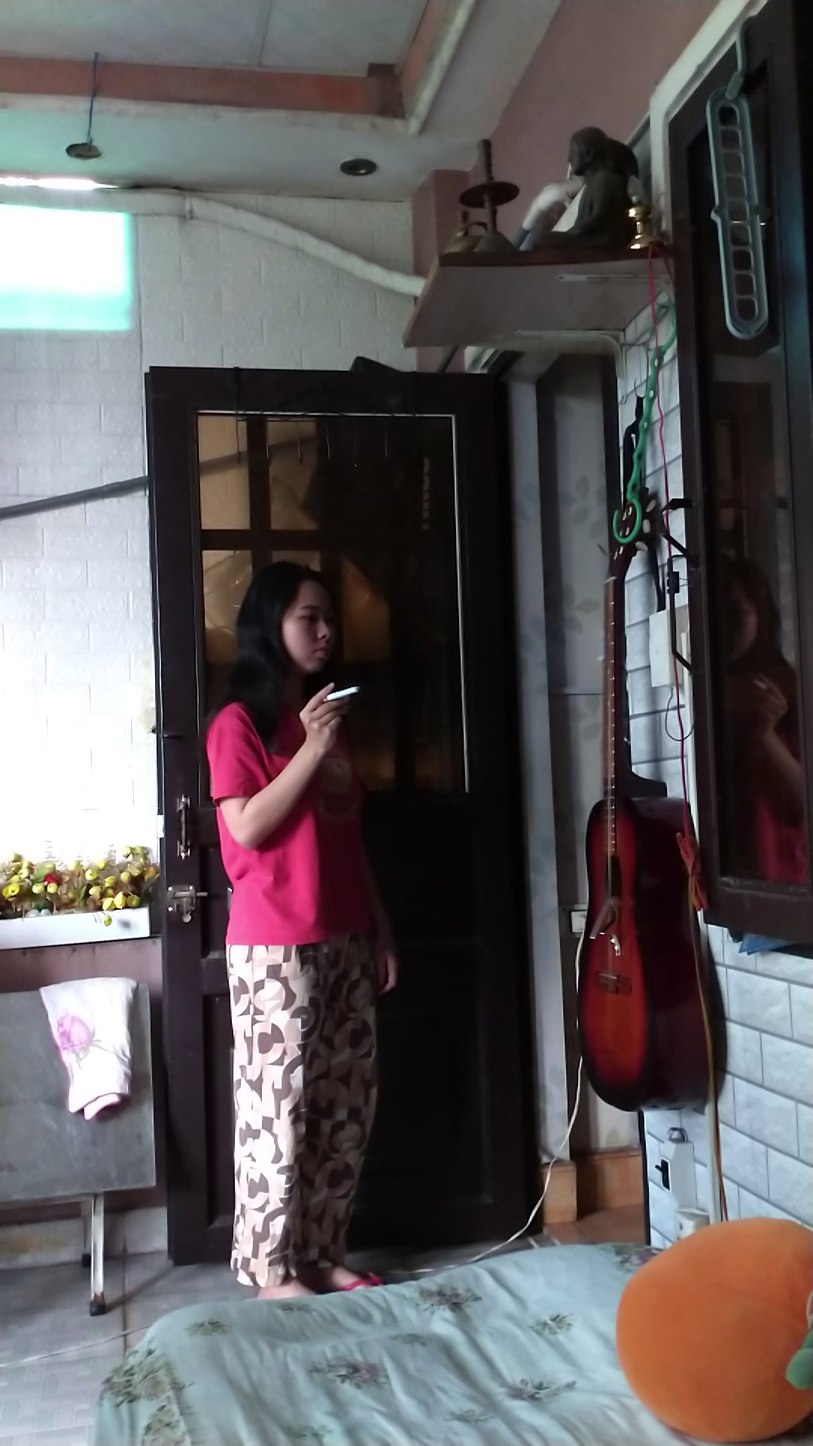cigarette: (325, 680, 365, 703)
person: (205, 537, 400, 1301)
